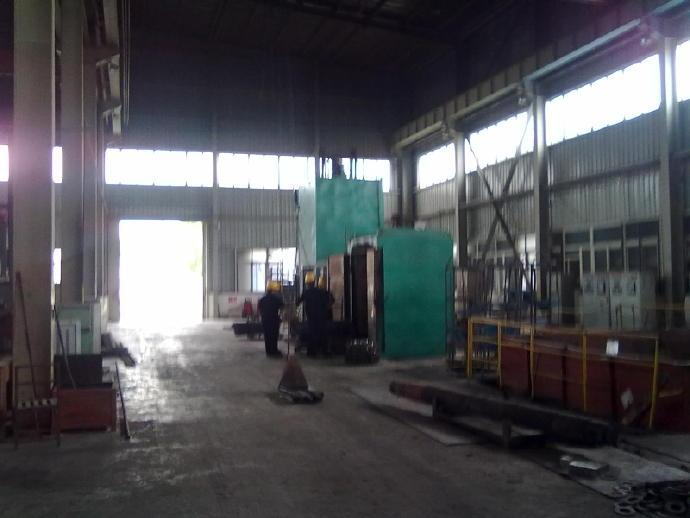helmet: (265, 280, 282, 290), (303, 274, 316, 283)
